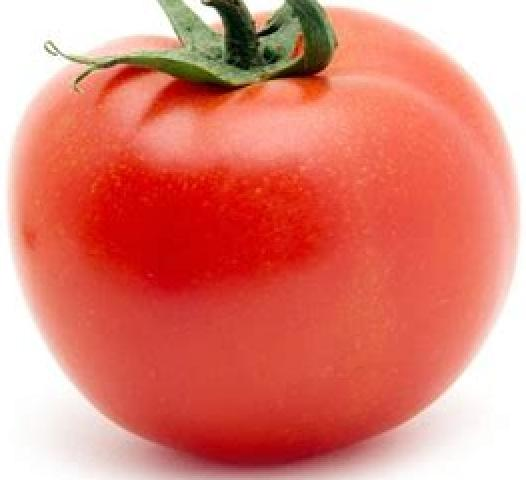tomato: (14, 12, 517, 461)
